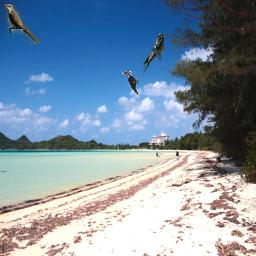Cuckoo: (4, 4, 39, 44)
Swallow: (143, 33, 164, 73)
Woodpecker: (122, 71, 138, 96)
